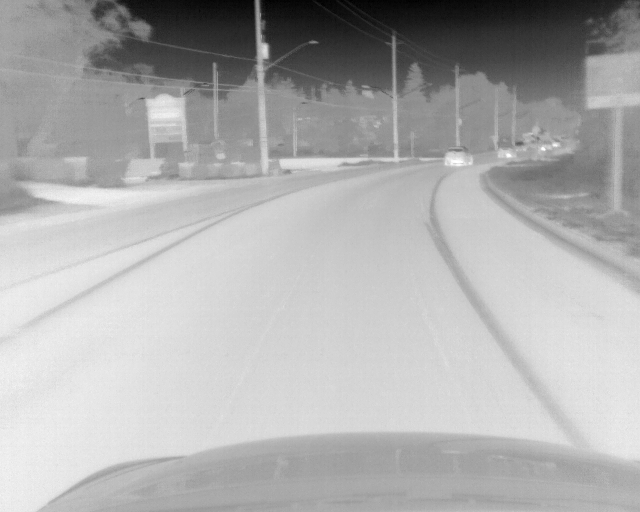car: (444, 146, 472, 166), (497, 147, 518, 159), (539, 140, 551, 152), (552, 140, 561, 148)
